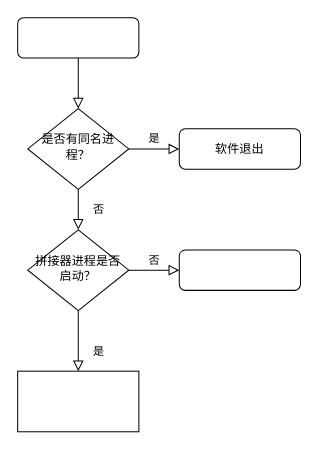
Some shapes in this 318 by 449 pixel diagram are drawn without their labels. The centre of each missing label's shape, as x and y in pixels:
启动拼接器进程: the point at 239,269
软件启动: the point at 78,37
